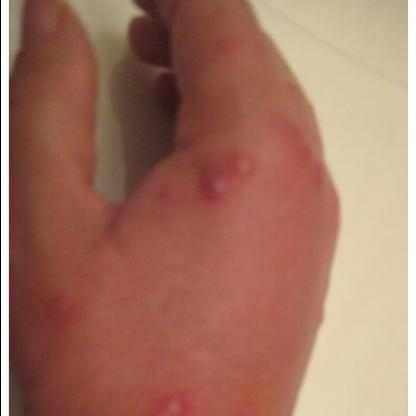Fire ant: (288, 124, 324, 191), (209, 154, 253, 202), (154, 397, 192, 415), (48, 294, 68, 327), (216, 34, 243, 58), (156, 184, 180, 206)
